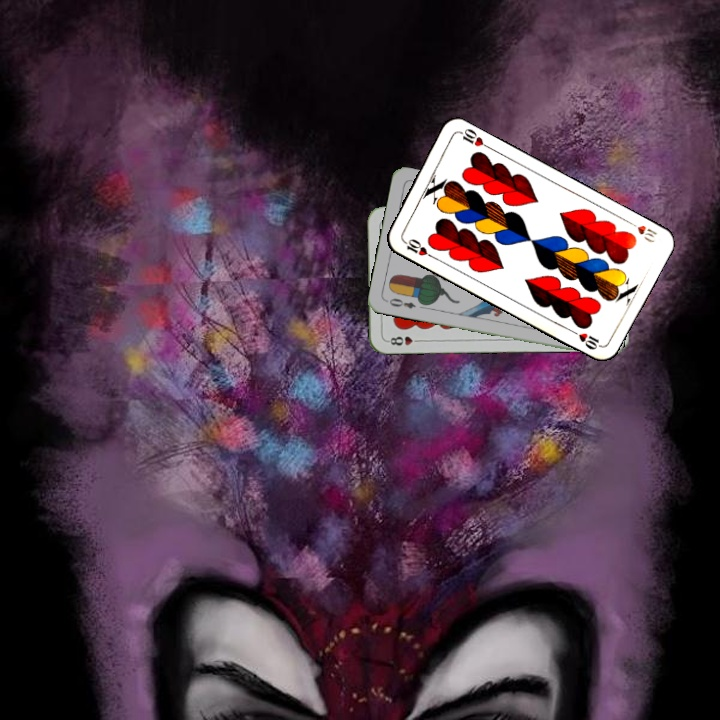EO: (382, 294, 418, 311)
H10: (398, 234, 436, 260), (623, 216, 660, 239)
H8: (383, 332, 424, 348)
